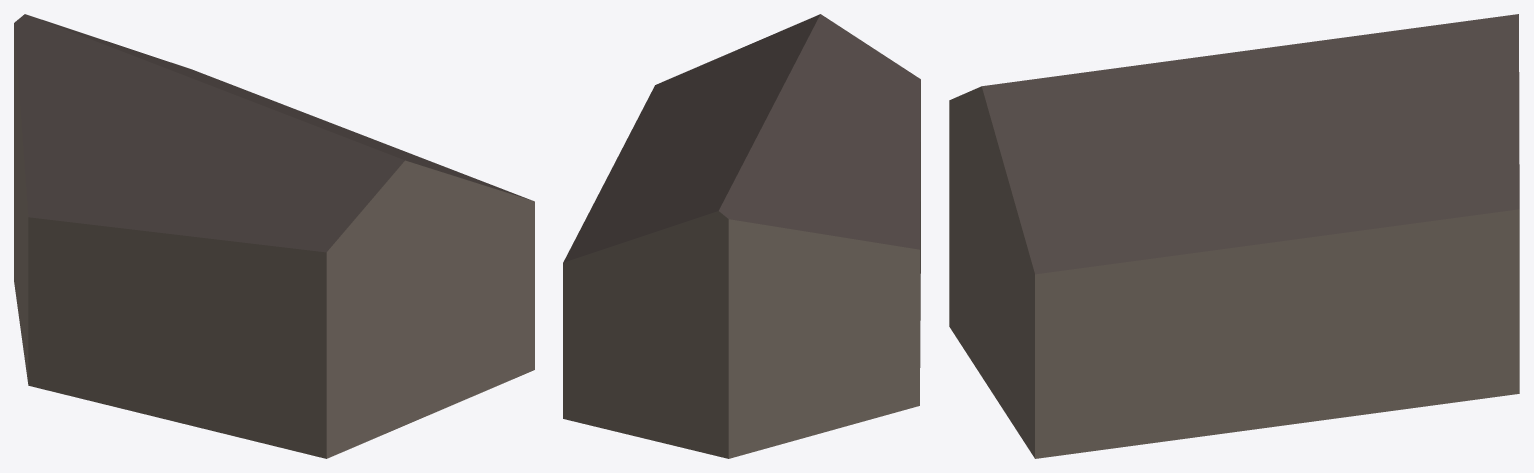
3 views of the same model, side by side, from view 1: azimuth 30°, elevation 25°; view 2: azimuth 150°, elevation 25°; view 3: azimuth 270°, elevation 25° (orthographic). The views are drawn at different scales.
Visible parts, largest first — view 1: HP-w859488830; view 2: HP-w859488830; view 3: HP-w859488830.
Boxes of the visible parts, x1,y1,x2,y2 form: HP-w859488830: (14, 14, 534, 458); HP-w859488830: (563, 14, 920, 458); HP-w859488830: (949, 14, 1519, 458).
Bounding box in the file's own units: 22.14 × 14.15 × 25.2.
